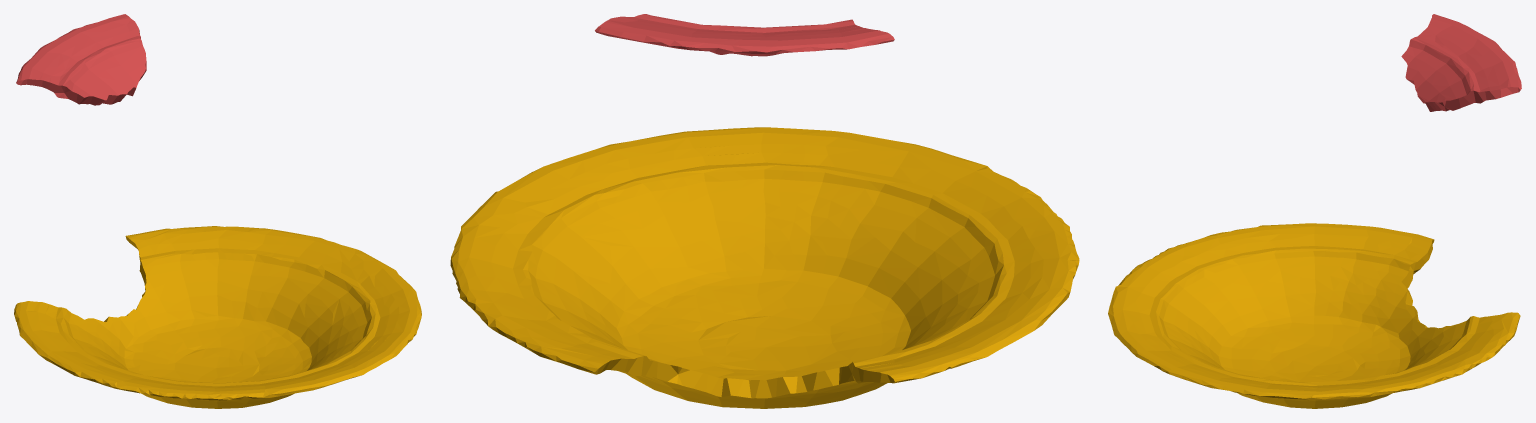
File: fractured_49_2pcs_transformed.glb
3 renders of one model, left to right at view 1: azimuth 30°, elevation 25°; view 2: azimuth 150°, elevation 25°; view 3: azimuth 270°, elevation 25°, orthographic. The views are drawn at different scales.
Visible parts, largest first — view 1: piece_0.obj, piece_1.obj; view 2: piece_0.obj, piece_1.obj; view 3: piece_0.obj, piece_1.obj.
Part boxes in pixels (x1,y1,x2,y2): piece_0.obj: (14,226,421,408); piece_1.obj: (16,14,146,105); piece_0.obj: (450,127,1079,408); piece_1.obj: (595,14,894,56); piece_0.obj: (1108,223,1520,408); piece_1.obj: (1401,14,1521,111).
Size of the model in its own units: 1 by 0.7828 by 0.9983.
